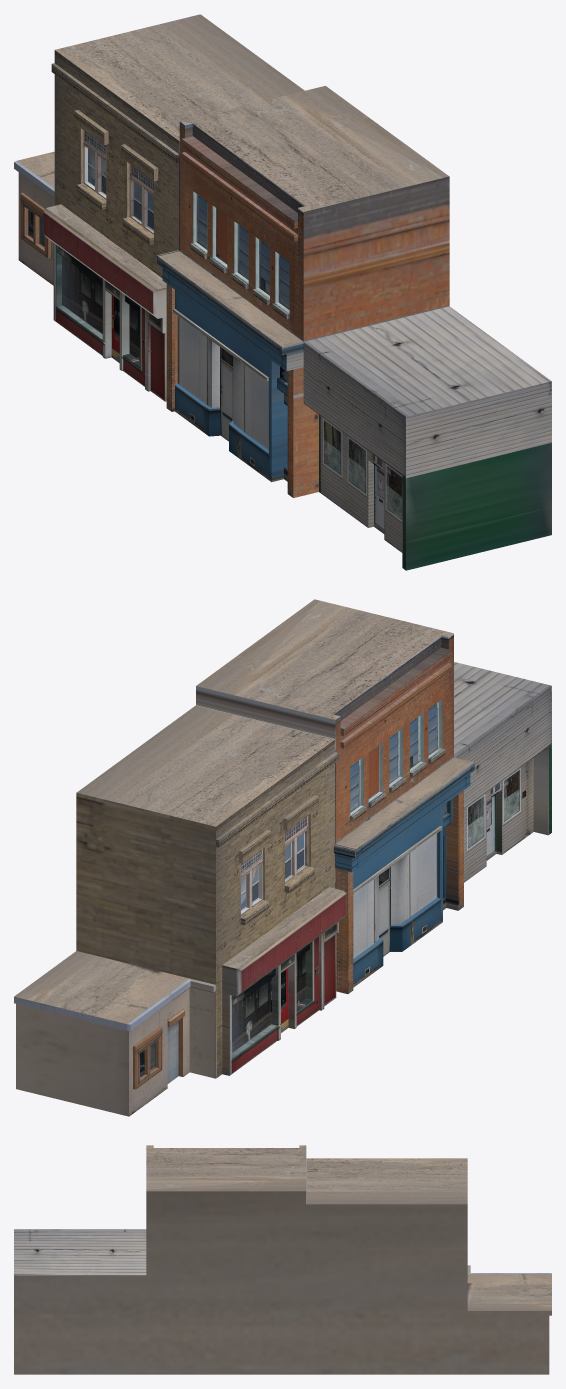
Rendered from Build_Blue_Red.fbx.
3 views of the same model, one above another, from view 1: azimuth 30°, elevation 25°; view 2: azimuth 150°, elevation 25°; view 3: azimuth 270°, elevation 25° (orthographic). The views are drawn at different scales.
Parts seen in each view (by area): view 1: Build_Blue_Red; view 2: Build_Blue_Red; view 3: Build_Blue_Red.
Part boxes in pixels (bbox=[...]): Build_Blue_Red: bbox=[14, 14, 551, 570]; Build_Blue_Red: bbox=[14, 599, 551, 1116]; Build_Blue_Red: bbox=[14, 1145, 551, 1374].
Size of the model in its own units: 205 by 332 by 884.
Materials: 1 (1 with a texture image).
